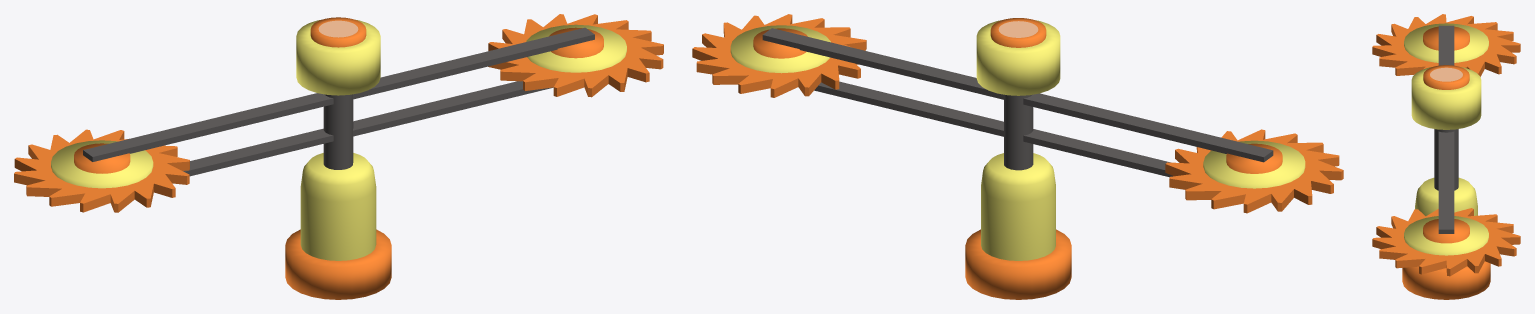
The model's file is Obstacle 17 V3.fbx.
3 views of the same model, side by side, from view 1: azimuth 30°, elevation 25°; view 2: azimuth 150°, elevation 25°; view 3: azimuth 270°, elevation 25° (orthographic). The views are drawn at different scales.
Parts seen in each view (by area): view 1: O17 Part 3, O17 Part 4, O17 Part 2, O17 Part 1; view 2: O17 Part 3, O17 Part 4, O17 Part 2, O17 Part 1; view 3: O17 Part 3, O17 Part 1, O17 Part 2, O17 Part 4.
Part boxes in pixels (box(x1,y1,x2,y2)): O17 Part 3: box(285, 17, 391, 299); O17 Part 4: box(83, 27, 594, 176); O17 Part 2: box(14, 129, 189, 212); O17 Part 1: box(488, 14, 663, 97); O17 Part 3: box(965, 18, 1071, 299); O17 Part 4: box(762, 28, 1273, 177); O17 Part 2: box(1165, 129, 1343, 213); O17 Part 1: box(692, 14, 866, 97); O17 Part 3: box(1402, 65, 1490, 299); O17 Part 1: box(1372, 208, 1520, 276); O17 Part 2: box(1372, 14, 1520, 76); O17 Part 4: box(1434, 25, 1458, 233).
Size of the model in its own units: 308 by 116 by 75.75.
Materials: 1 (1 with a texture image).
